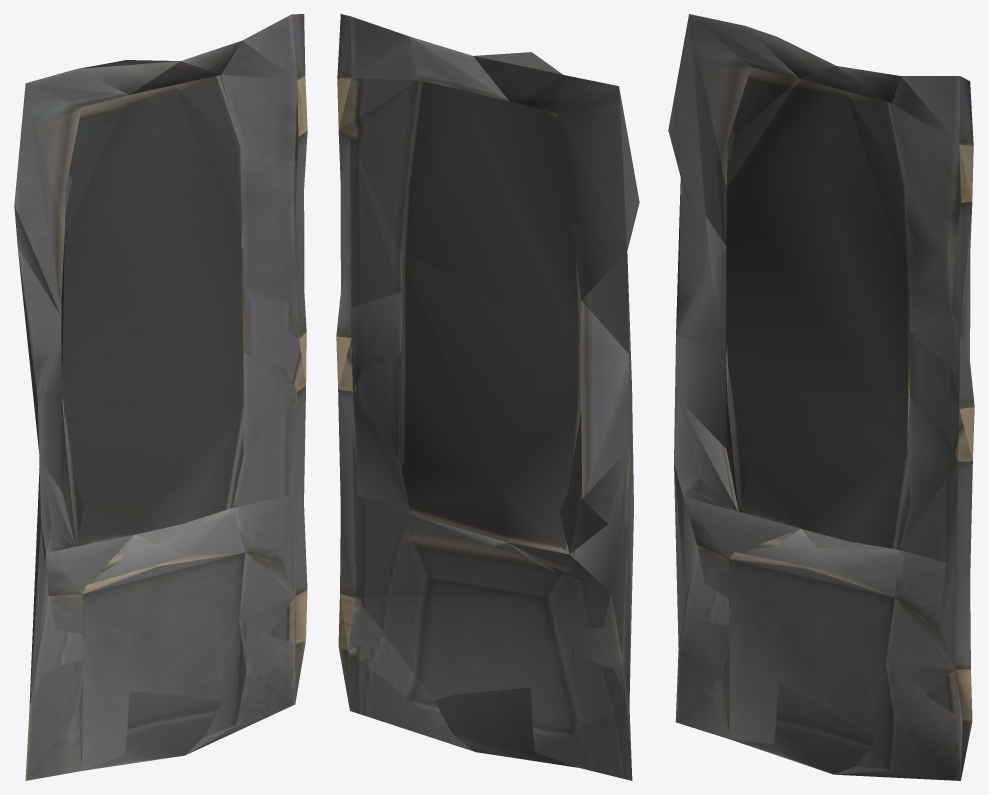
Rendered from imperial_cultural_district__entrance_door_leaf_lod2.glb.
The picture shows the model from 3 angles, left to right: view 1: azimuth 30°, elevation 25°; view 2: azimuth 150°, elevation 25°; view 3: azimuth 330°, elevation 25°; orthographic projection.
Visible parts, largest first — view 1: mesh_node; view 2: mesh_node; view 3: mesh_node.
Part boxes in pixels (left/top/right/bottom): mesh_node: left=14, top=14, right=307, bottom=780; mesh_node: left=336, top=14, right=639, bottom=780; mesh_node: left=668, top=14, right=974, bottom=780.
Bounding box in the file's own units: 1.07 × 2.44 × 0.1207.
Materials: 1 (1 with a texture image).
